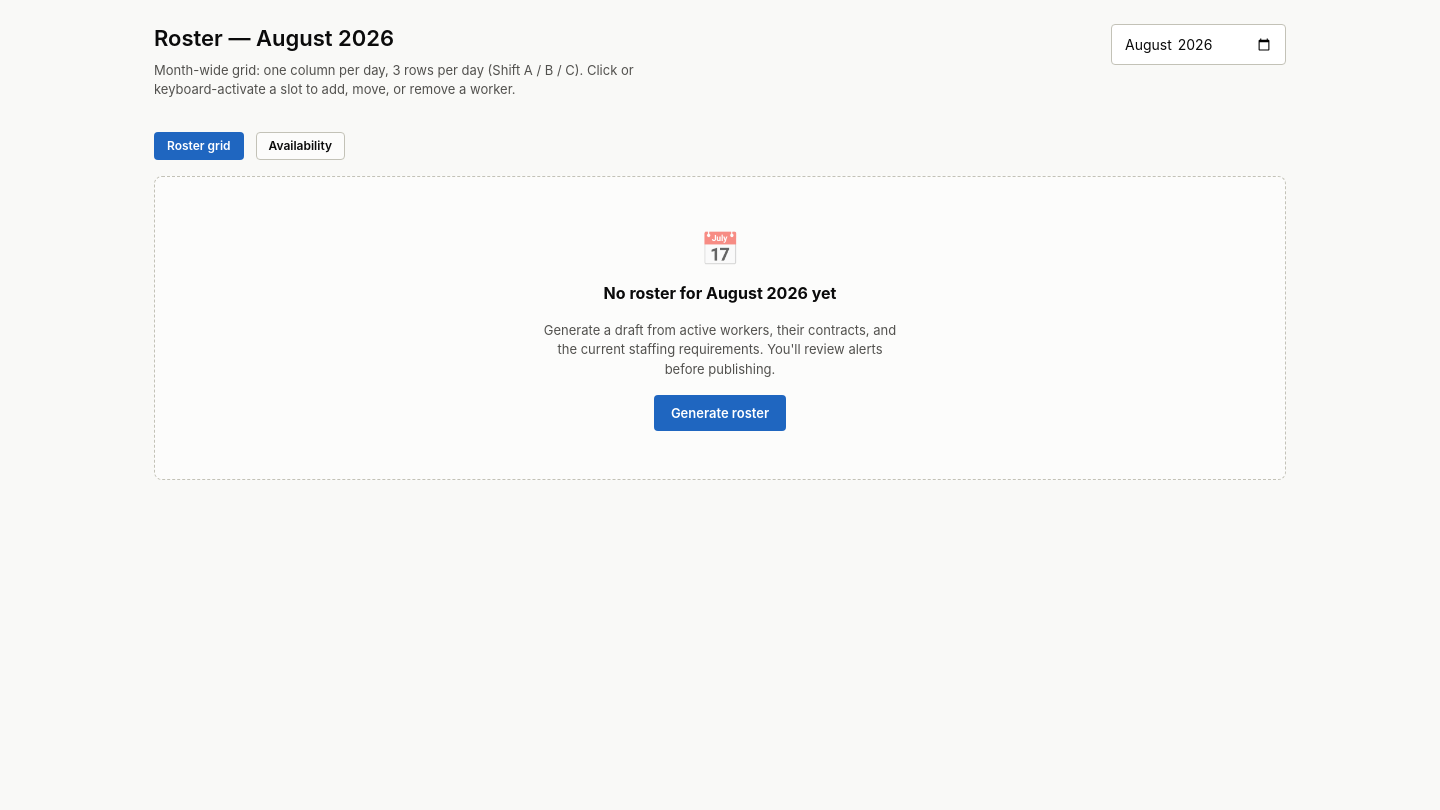
RosterPage › generate -> job polling -> completion refreshes the grid via Roster-tag cache invalidation, not a manual refetch
Step 1. Click the button "Generate roster" → (720, 413), box [654,395,786,431]
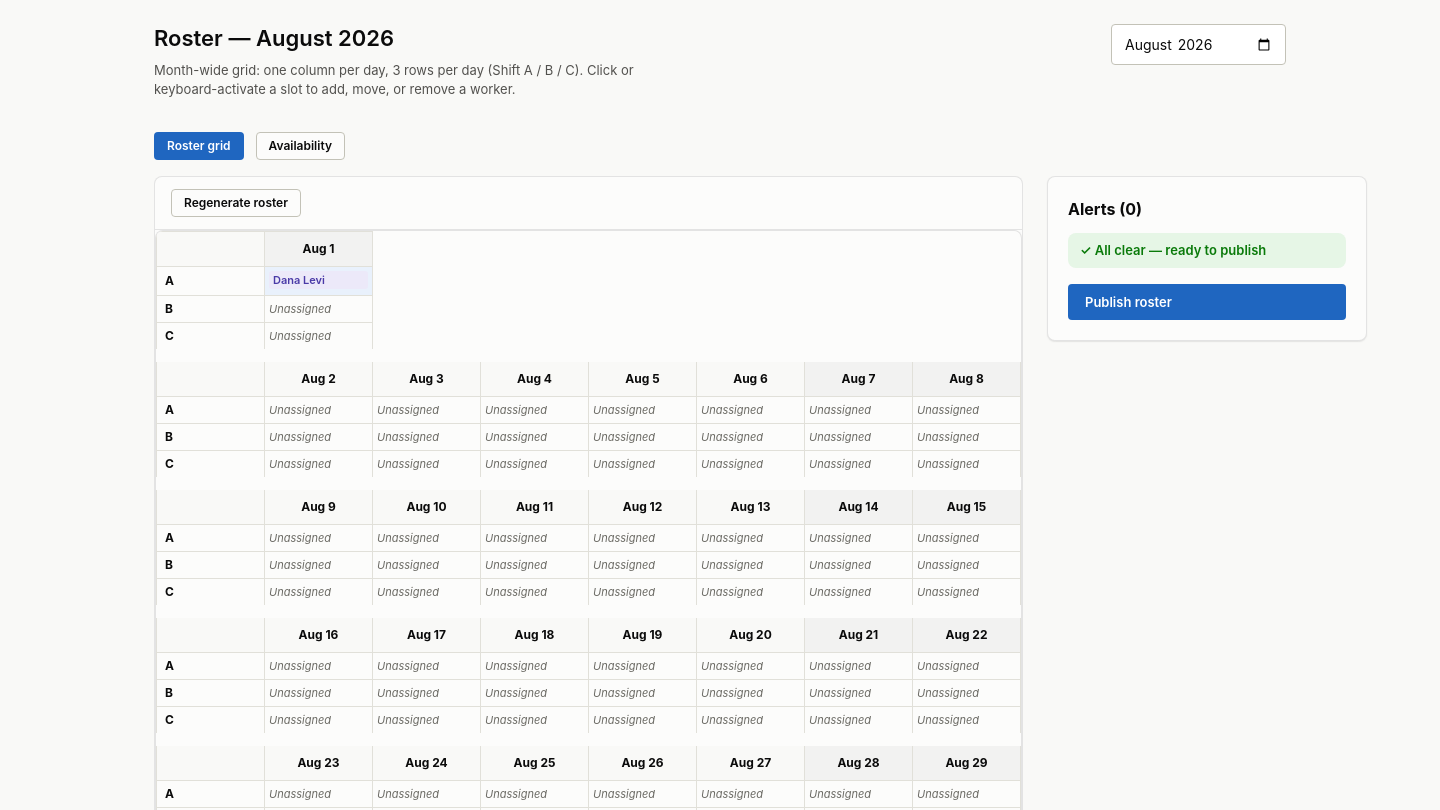
Expected: the text "Dana Levi" is shown, [269,271,368,289]
